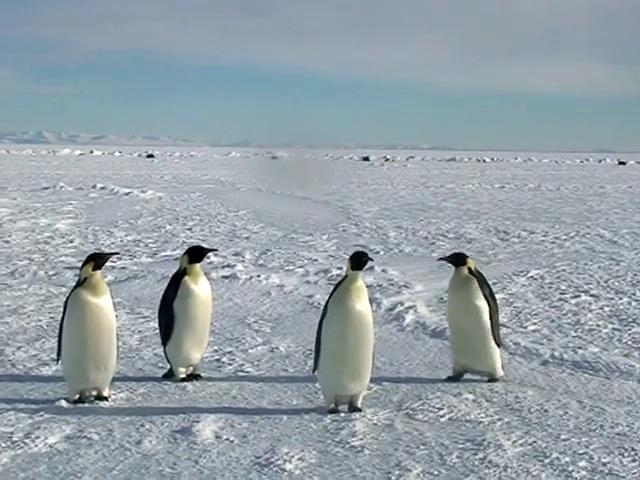animal: (314, 252, 375, 414)
